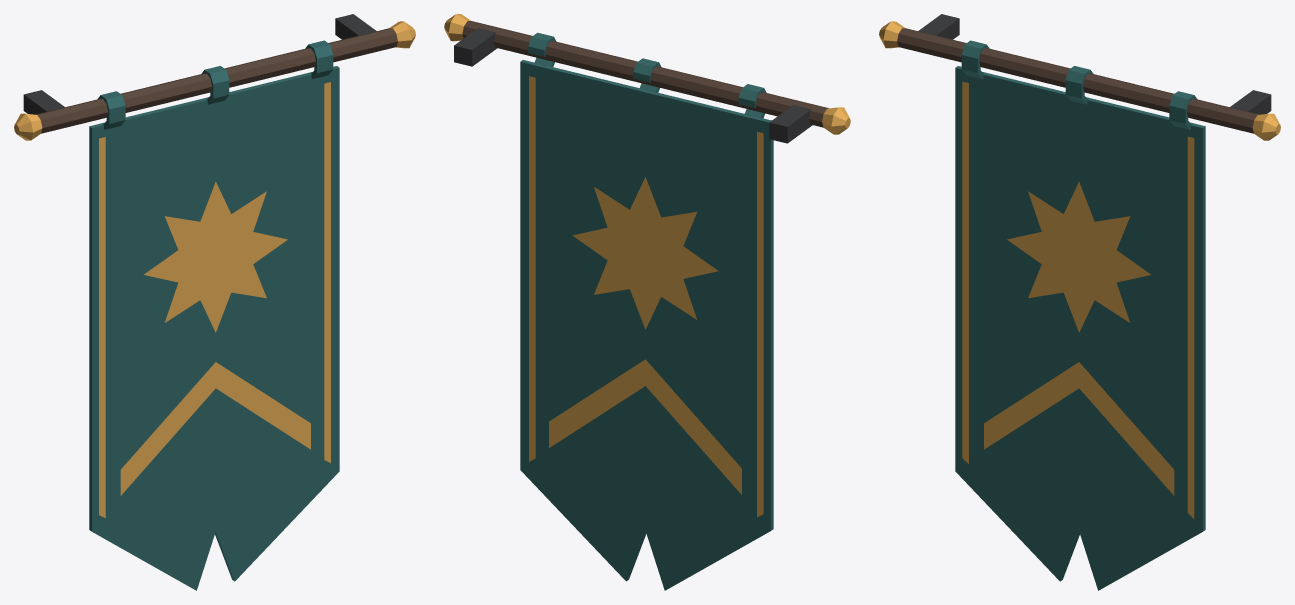
File: sun_pennon.glb
3 renders of one model, left to right at view 1: azimuth 30°, elevation 25°; view 2: azimuth 150°, elevation 25°; view 3: azimuth 330°, elevation 25°, orthographic.
Visible parts, largest first — view 1: Sun pennon; view 2: Sun pennon; view 3: Sun pennon.
Part boxes in pixels (box(x1,y1,x2,y2)): Sun pennon: box(14, 14, 415, 590); Sun pennon: box(444, 14, 850, 590); Sun pennon: box(879, 14, 1280, 590).
Bounding box in the file's own units: 0.832 × 1.04 × 0.123.
